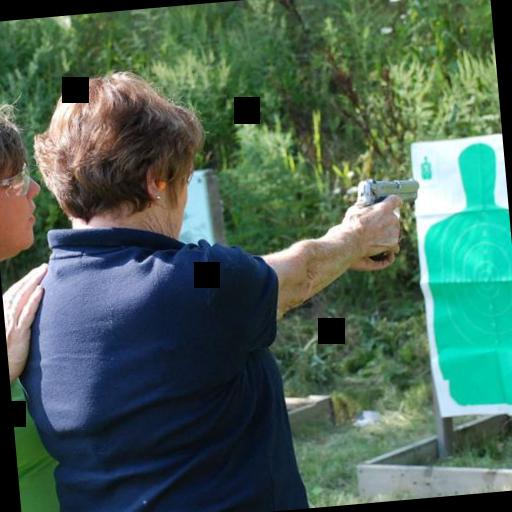Handgun: (352, 176, 422, 261)
